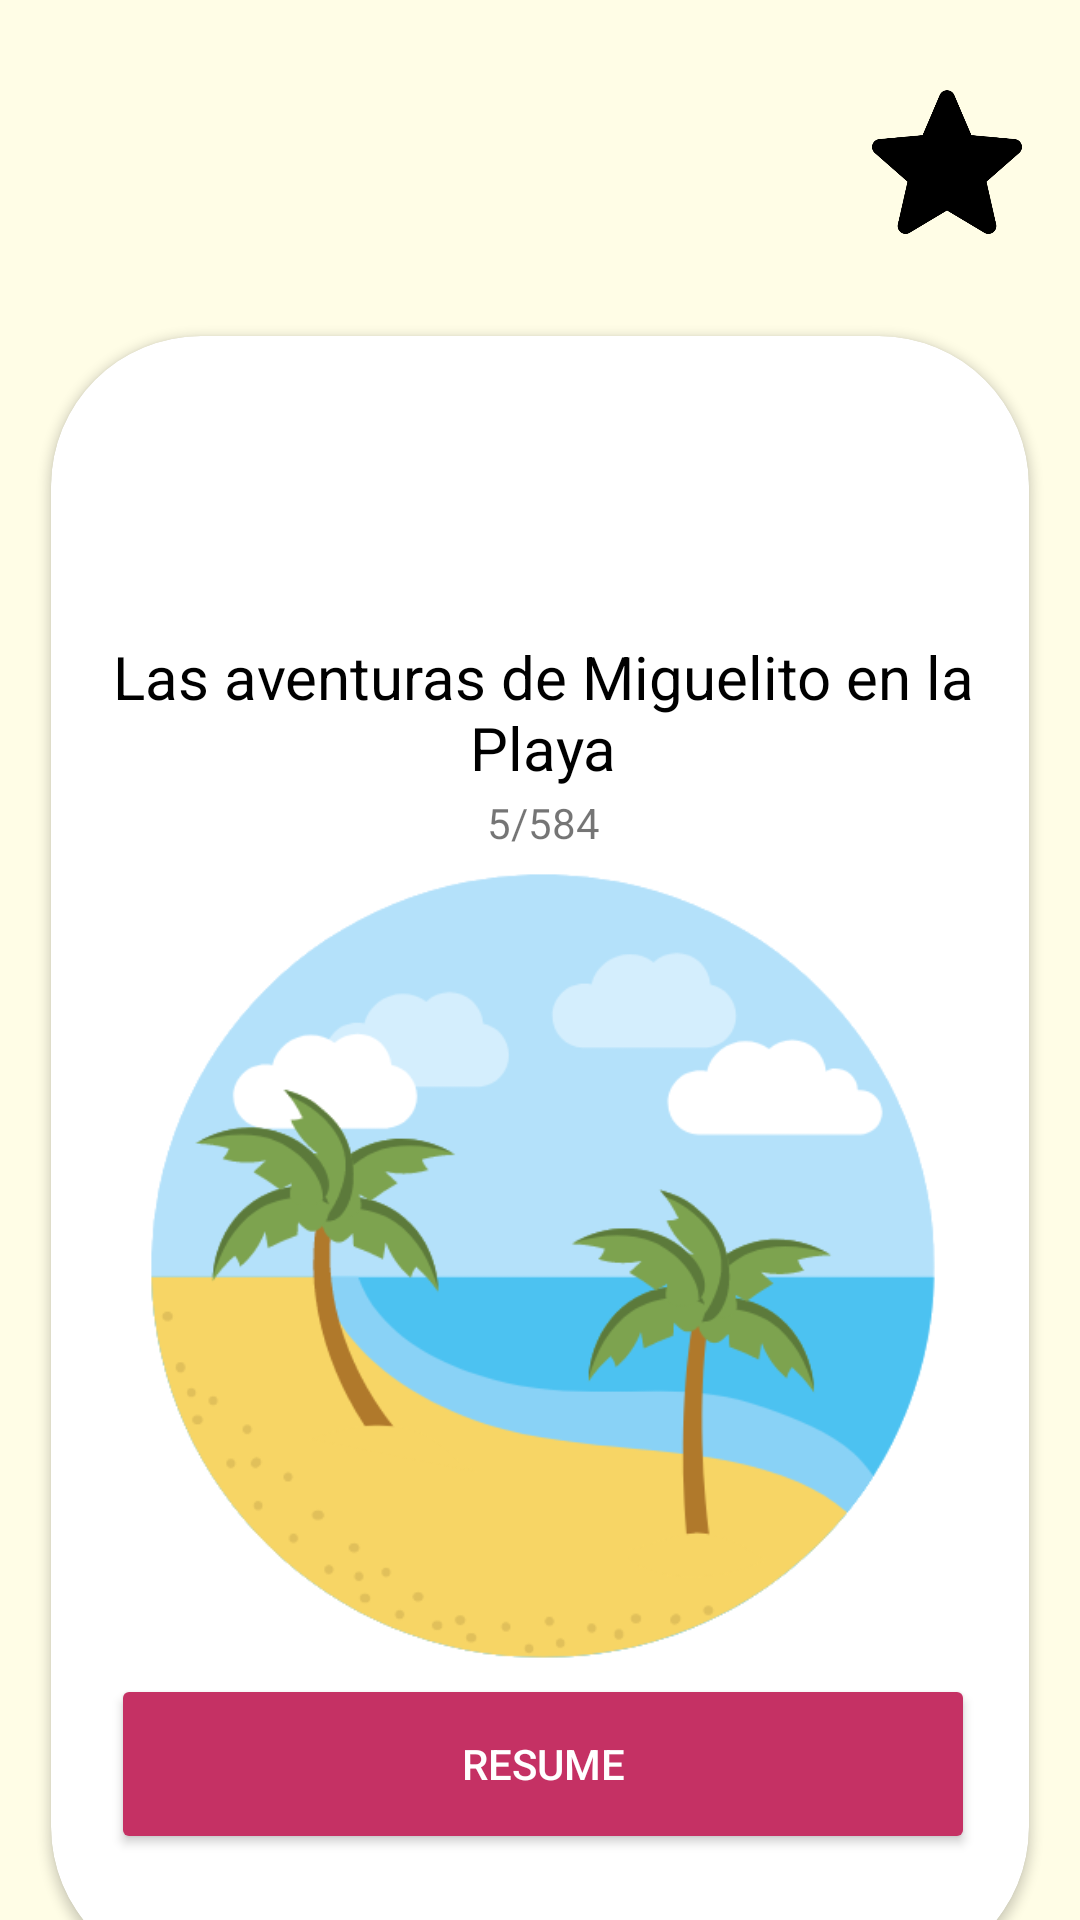

Screen size 1080px x 1920px. Icon name, then its center in pixels as (x=x, y=y):
favorites: (x=947, y=162)
